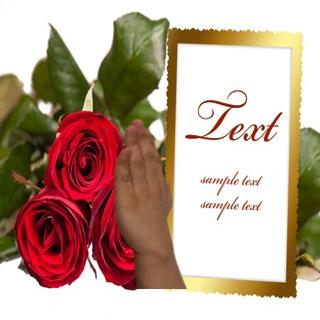RIGHT: (108, 113, 175, 261)
